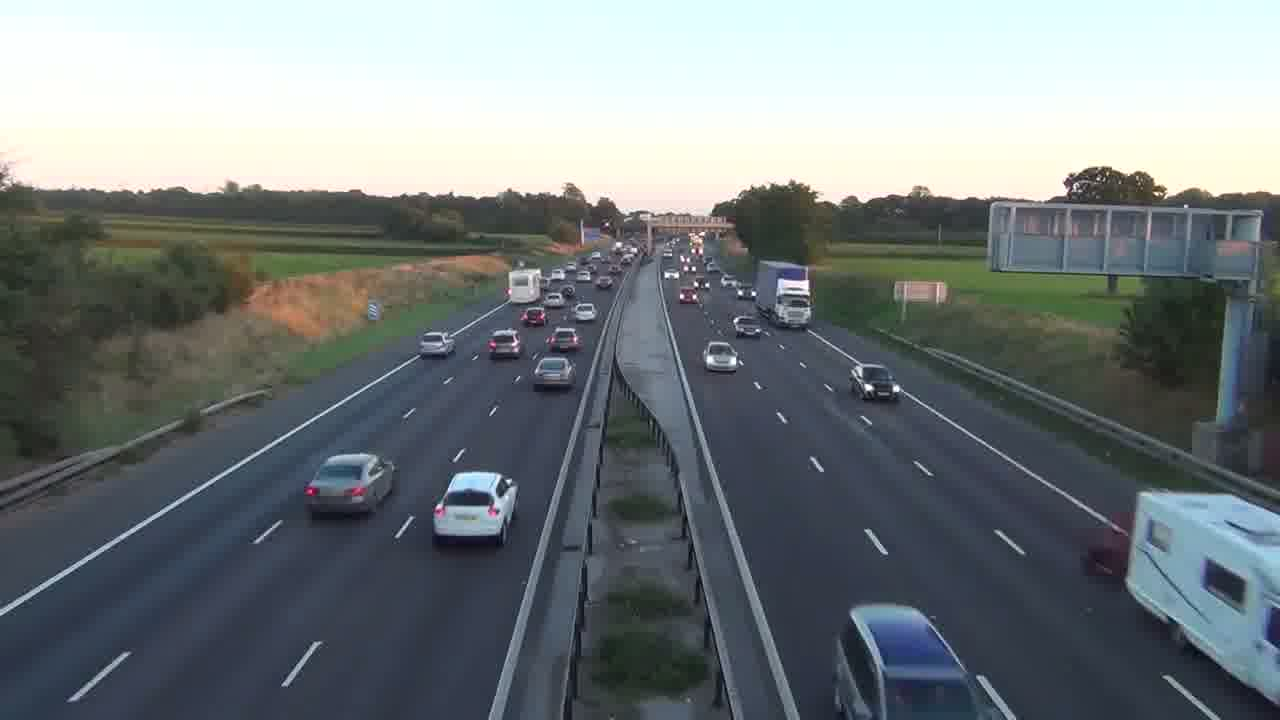car: (831, 602, 1017, 718), (431, 470, 519, 547), (303, 452, 397, 518), (848, 364, 900, 402), (532, 355, 576, 391), (703, 340, 742, 373), (549, 327, 582, 353), (520, 308, 547, 327)
truck: (1124, 489, 1279, 706), (754, 260, 814, 328), (506, 269, 543, 303)
